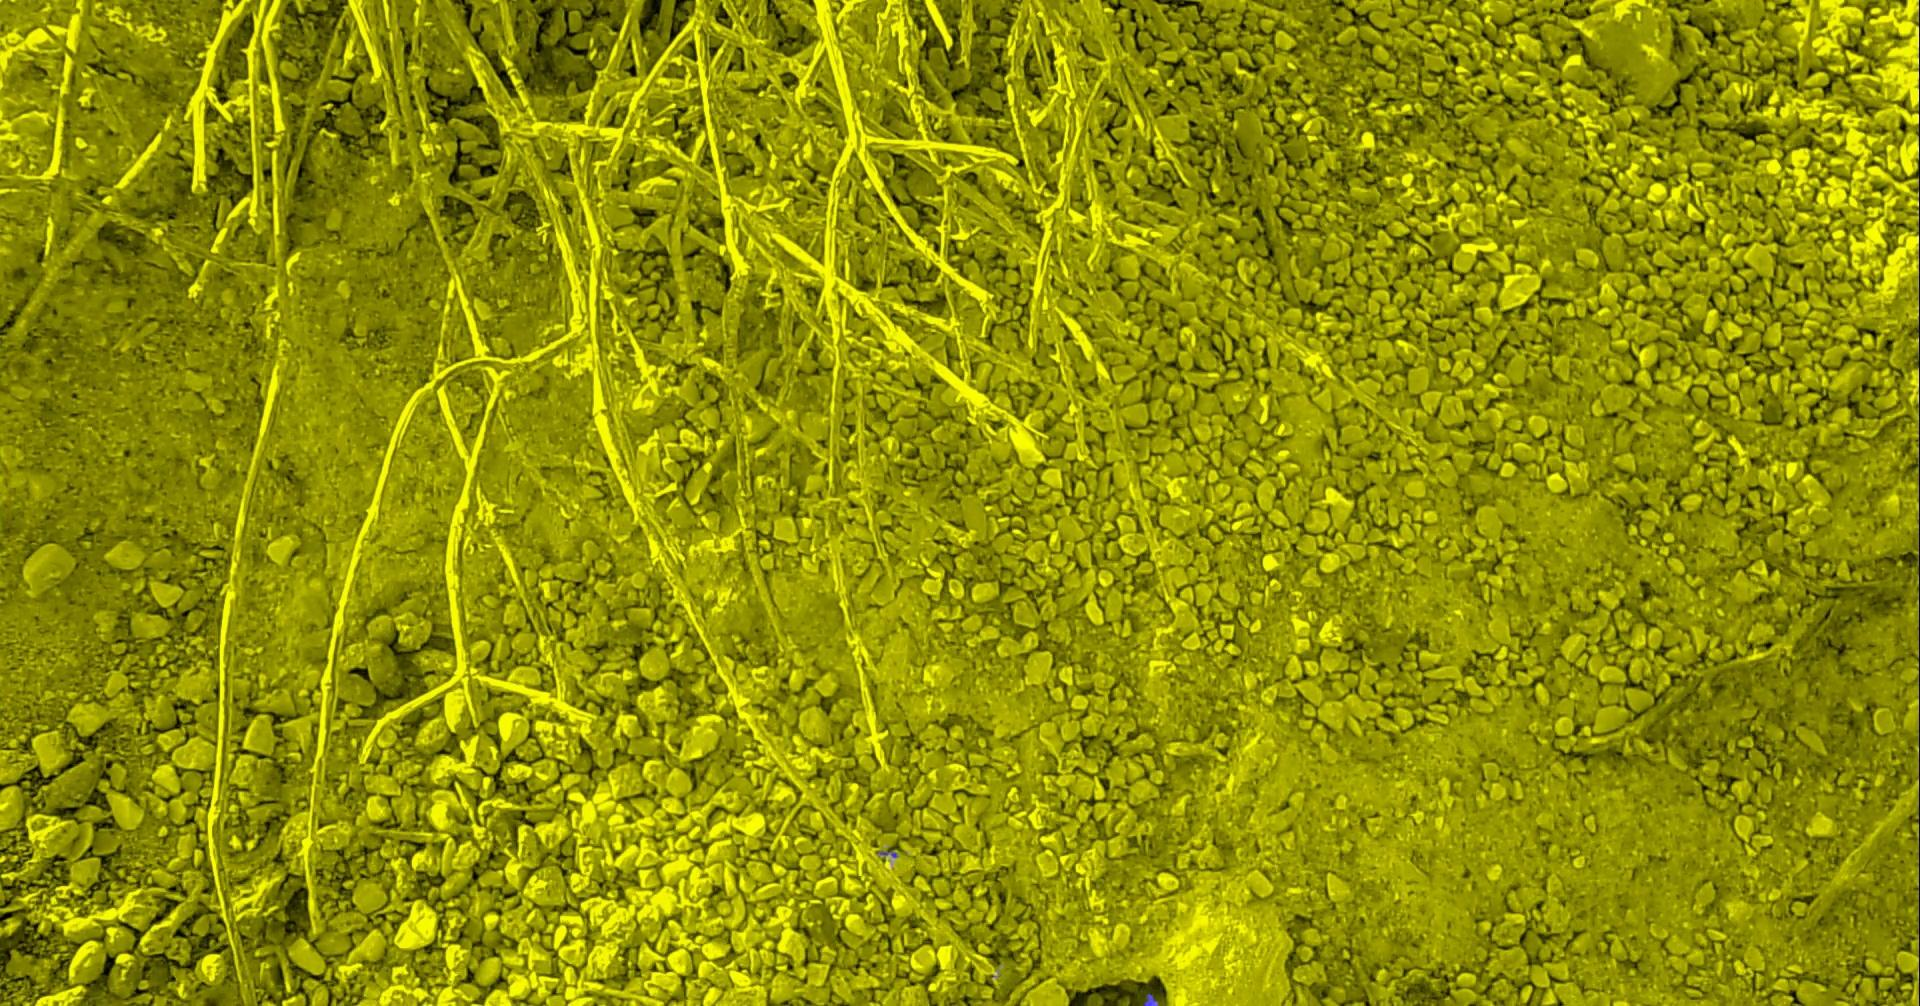ant: (1142, 992, 1158, 1005)
